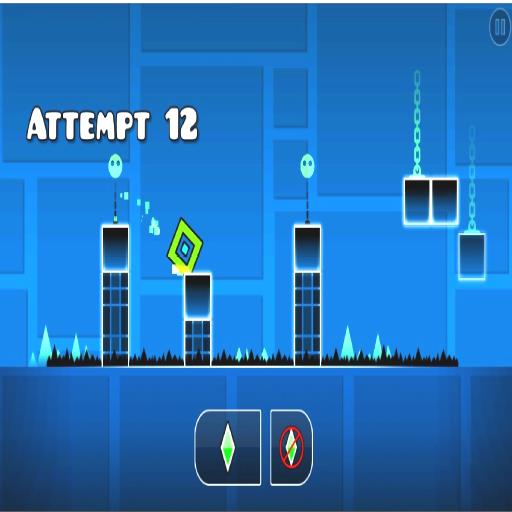block: (292, 222, 323, 368), (100, 224, 130, 364), (402, 176, 461, 226), (182, 273, 212, 366), (458, 231, 488, 283)
player: (167, 217, 202, 273)
spike: (38, 326, 51, 365), (342, 326, 354, 359), (71, 334, 80, 359), (373, 333, 381, 358), (28, 353, 36, 366), (261, 349, 268, 362), (236, 348, 242, 362), (386, 346, 390, 356), (245, 349, 248, 358)
